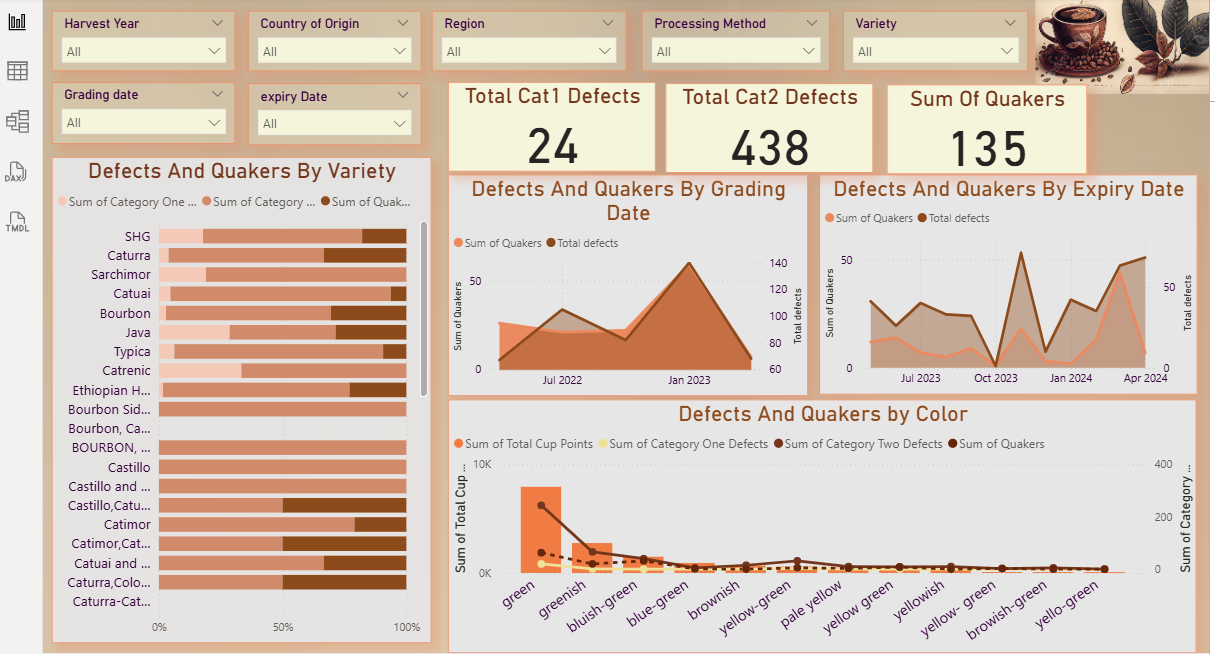

This screenshot's page, from the dashboard's own definition file:
{"tool":"powerbi","page":{"name":"Defects","canvas":[1280,720],"ordinal":1},"visuals":[{"type":"slicer","title":"Harvest year","fields":{"Values":["cleaned_data.Standardized Harvest Year"]},"box":[10,15,201.7,66.7],"z":0},{"type":"slicer","fields":{"Values":["cleaned_data.Country of Origin"]},"box":[225,15,190,66.7],"z":1000},{"type":"slicer","fields":{"Values":["cleaned_data.Region"]},"box":[426.7,15,213.3,66.7],"z":2000},{"type":"slicer","fields":{"Values":["cleaned_data.Processing Method"]},"box":[656.7,15,206.7,66.7],"z":3000},{"type":"areaChart","title":"Defects And Quakers By Grading Date","fields":{"Y":["Sum(cleaned_data.Quakers)"],"Y2":["cleaned_data.Total defects"],"Category":["cleaned_data.Grading date(parsed).Variation.Date Hierarchy.Year","cleaned_data.Grading date(parsed).Variation.Date Hierarchy.Quarter"]},"box":[445,195,395,243.3],"z":4000},{"type":"areaChart","title":"Defects And Quakers By Expiry Date","fields":{"Y":["Sum(cleaned_data.Quakers)"],"Y2":["cleaned_data.Total defects"],"Category":["cleaned_data.expiry parsed.Variation.Date Hierarchy.Year","cleaned_data.expiry parsed.Variation.Date Hierarchy.Quarter","cleaned_data.expiry parsed.Variation.Date Hierarchy.Month"]},"box":[851.7,195,415,241.7],"z":5000},{"type":"lineClusteredColumnComboChart","title":"Defects And Quakers by Color","fields":{"Category":["cleaned_data.Color"],"Y":["Sum(cleaned_data.Total Cup Points)"],"Y2":["Sum(cleaned_data.Category One Defects)","Sum(cleaned_data.Category Two Defects)","Sum(cleaned_data.Quakers)"]},"box":[444.6,441.9,822,278.6],"z":6000},{"type":"slicer","fields":{"Values":["cleaned_data.Variety"]},"box":[878.3,15,203.3,66.7],"z":7000},{"type":"slicer","fields":{"Values":["cleaned_data.Grading date(parsed)"]},"box":[10,93.3,201.7,68.3],"z":8000},{"type":"slicer","fields":{"Values":["cleaned_data.expiry parsed"]},"box":[225,95,190,68.3],"z":9000},{"type":"hundredPercentStackedBarChart","title":"Defects And Quakers By Variety","fields":{"Category":["cleaned_data.Variety"],"Y":["Sum(cleaned_data.Category One Defects)","Sum(cleaned_data.Category Two Defects)","Sum(cleaned_data.Quakers)"]},"box":[10,175,416.7,533.3],"z":10000},{"type":"card","title":"Sum Of Quakers","fields":{"Values":["Sum(cleaned_data.Quakers)"]},"box":[926.7,96.7,220,98.3],"z":11000},{"type":"card","title":"Total Cat1 Defects","fields":{"Values":["Sum(cleaned_data.Category One Defects)"]},"box":[445,93.3,228.3,98.3],"z":12000},{"type":"card","title":"Total Cat2 Defects","fields":{"Values":["Sum(cleaned_data.Category Two Defects)"]},"box":[683.3,95,228.3,98.3],"z":13000}]}

Visuals, with their boxes on the page's 1280x720 design canvas (x1, y1, x2, y2). These are canvas units, not pixel positions in the 1215x654 screenshot, which may show the page scaled, cropped or inside an application window:
"Harvest year" slicer: box=[10, 15, 212, 82]
slicer - cleaned_data.Country of Origin: box=[225, 15, 415, 82]
slicer - cleaned_data.Region: box=[427, 15, 640, 82]
slicer - cleaned_data.Processing Method: box=[657, 15, 863, 82]
"Defects And Quakers By Grading Date" areaChart: box=[445, 195, 840, 438]
"Defects And Quakers By Expiry Date" areaChart: box=[852, 195, 1267, 437]
"Defects And Quakers by Color" lineClusteredColumnComboChart: box=[445, 442, 1267, 720]
slicer - cleaned_data.Variety: box=[878, 15, 1082, 82]
slicer - cleaned_data.Grading date(parsed): box=[10, 93, 212, 162]
slicer - cleaned_data.expiry parsed: box=[225, 95, 415, 163]
"Defects And Quakers By Variety" hundredPercentStackedBarChart: box=[10, 175, 427, 708]
"Sum Of Quakers" card: box=[927, 97, 1147, 195]
"Total Cat1 Defects" card: box=[445, 93, 673, 192]
"Total Cat2 Defects" card: box=[683, 95, 912, 193]
